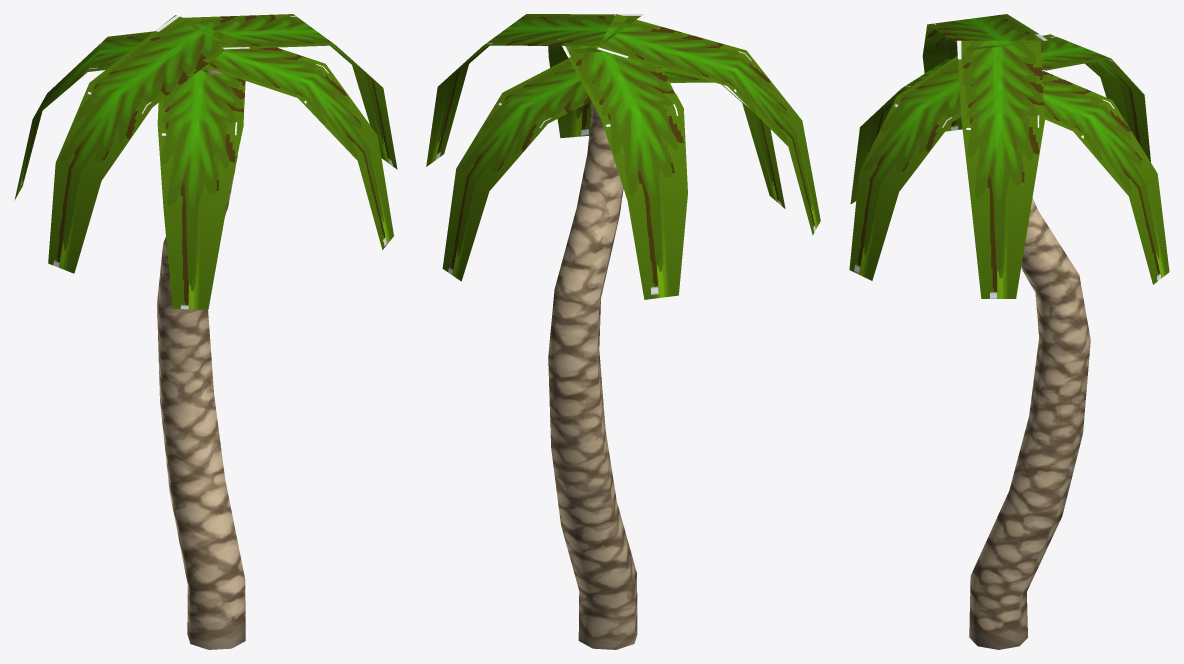
The model's file is palm.glb.
3 renders of one model, left to right at view 1: azimuth 30°, elevation 25°; view 2: azimuth 150°, elevation 25°; view 3: azimuth 270°, elevation 25°, orthographic. The views are drawn at different scales.
Visible parts, largest first — view 1: Palm; view 2: Palm; view 3: Palm.
Boxes of the visible parts, x1=… form: Palm: x1=14, y1=14, x2=397, y2=649; Palm: x1=426, y1=14, x2=820, y2=649; Palm: x1=849, y1=14, x2=1169, y2=649.
Bounding box in the file's own units: 3 × 4.87 × 2.39.
1 material, 1 textured.
